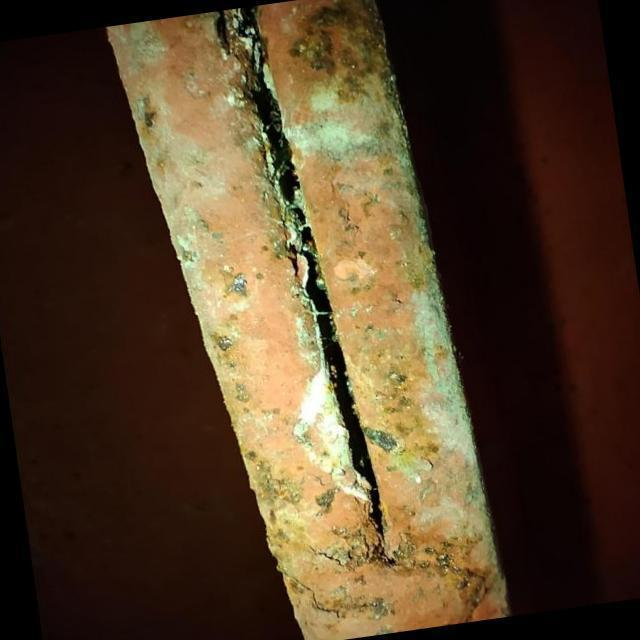defect: (214, 6, 390, 542), (289, 575, 344, 622), (303, 542, 347, 569)
